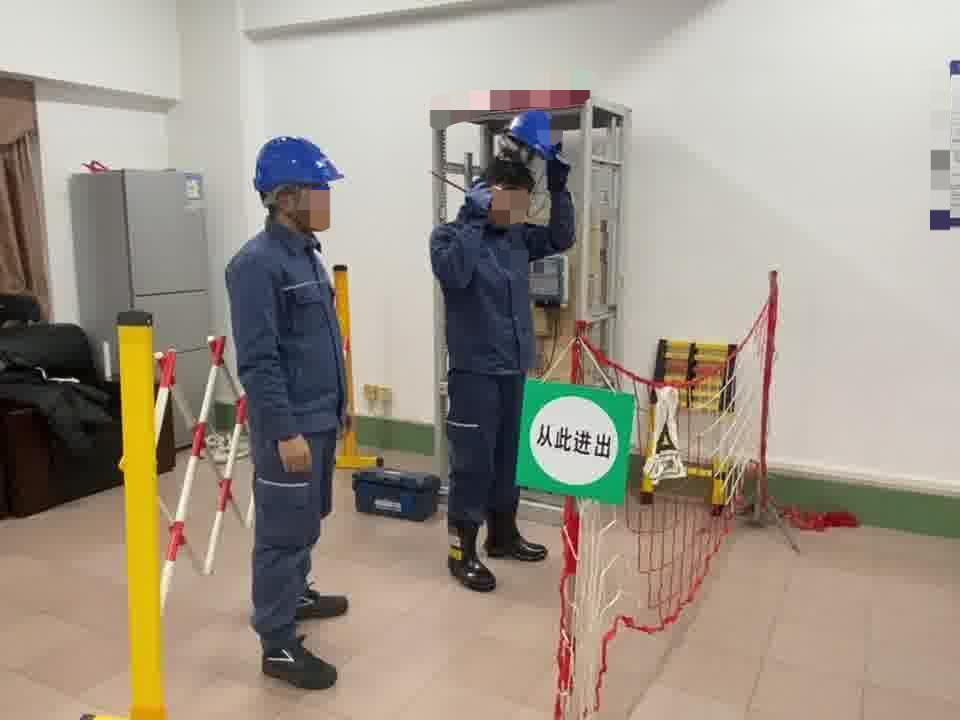halt: (255, 136, 347, 233)
inear: (270, 187, 308, 223)
unhalt: (481, 165, 538, 227)
